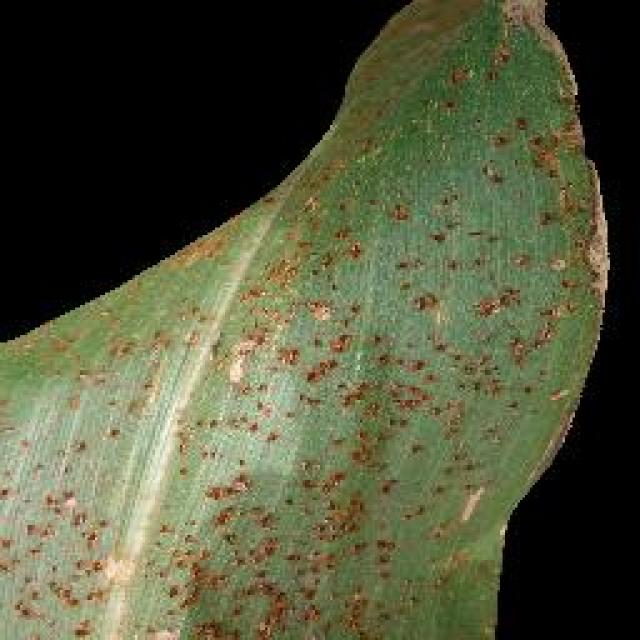Corn Common Rust: (182, 155, 543, 615)
